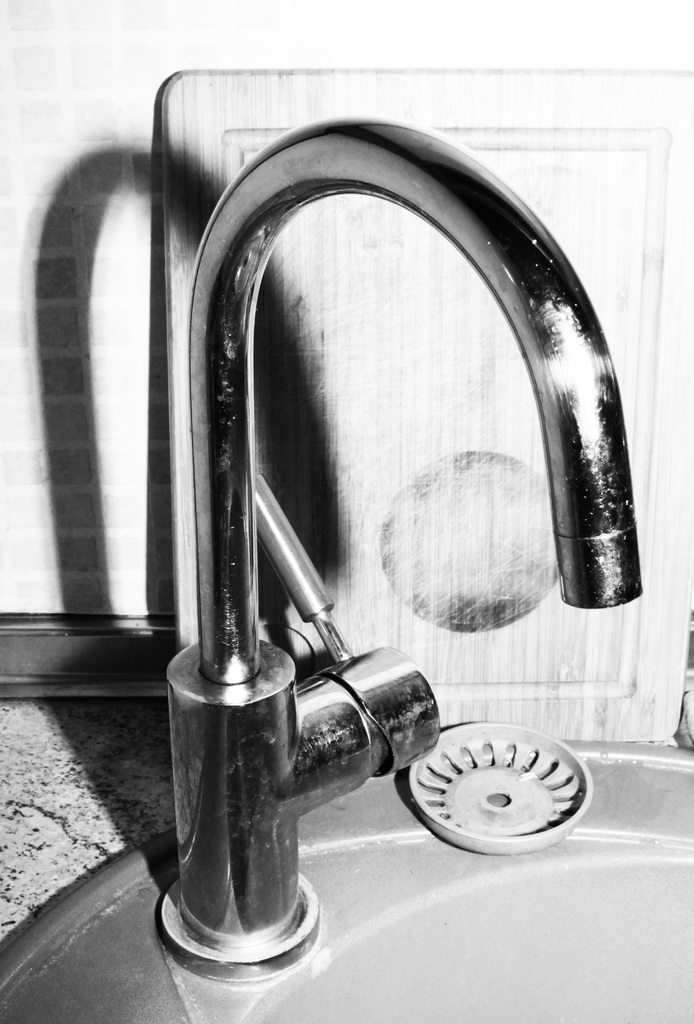tap: (148, 115, 642, 986)
